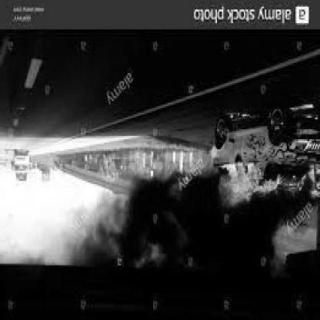Fire: (214, 160, 320, 216)
Smoke: (75, 191, 314, 320)
